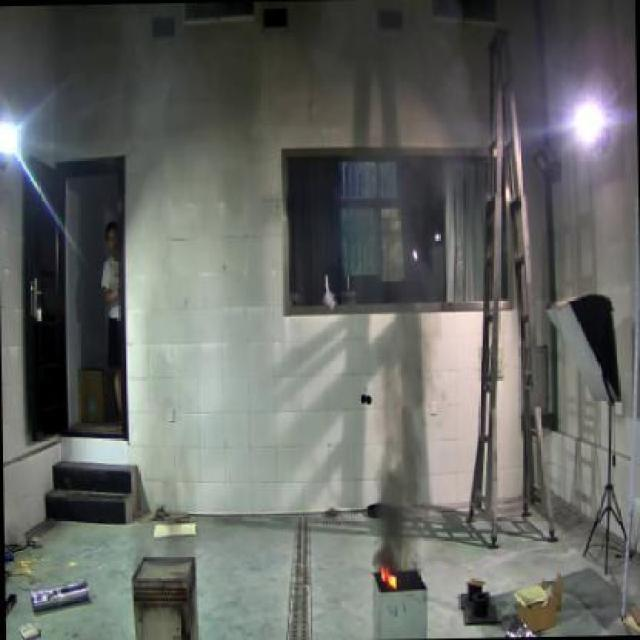fire: (369, 404, 426, 560)
smoke: (374, 564, 400, 592)
